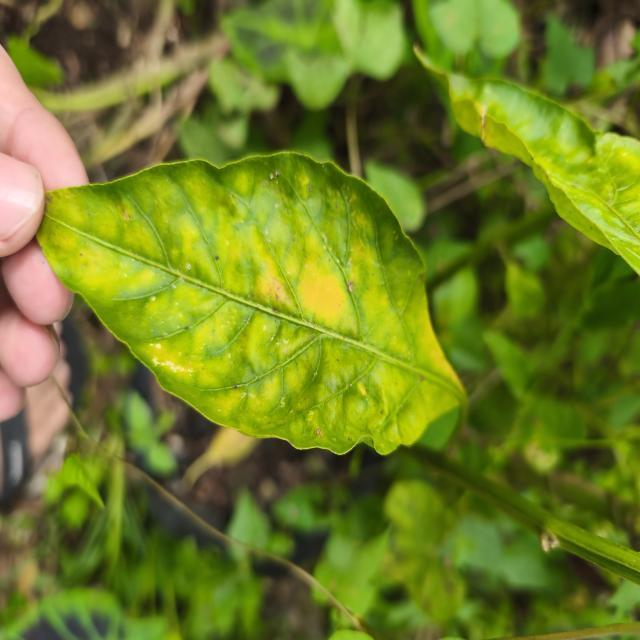Virus Kuning: (35, 149, 468, 458), (412, 42, 640, 278)
